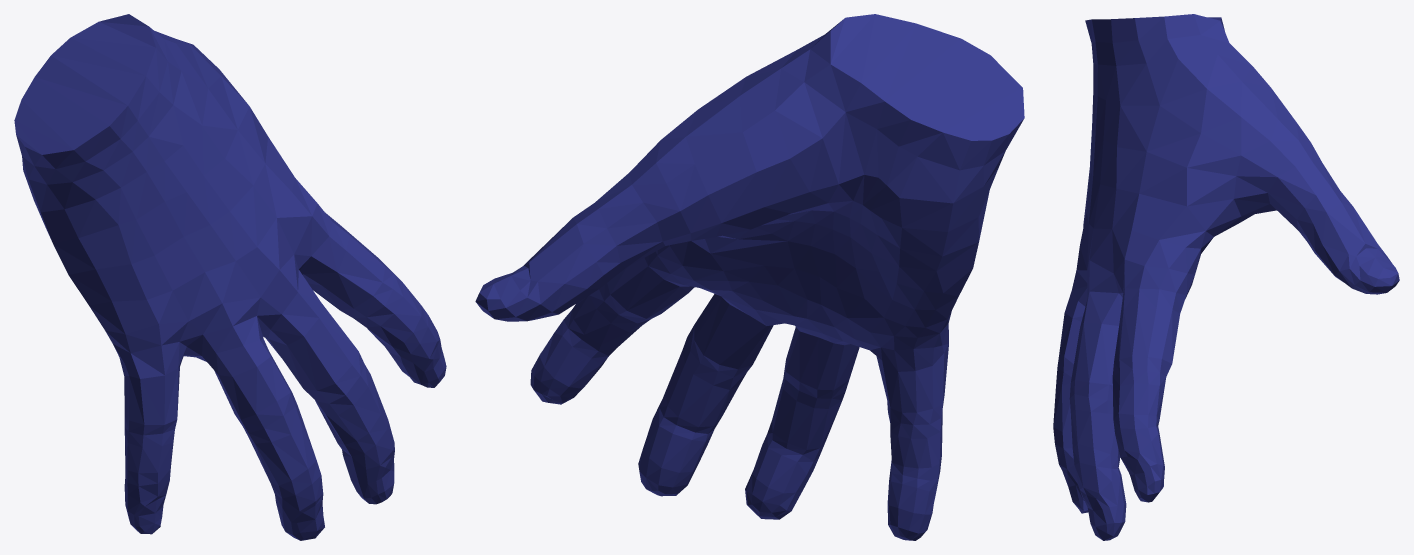
3 renders of one model, left to right at view 1: azimuth 30°, elevation 25°; view 2: azimuth 150°, elevation 25°; view 3: azimuth 270°, elevation 25°, orthographic. The views are drawn at different scales.
Bounding box in the file's own units: 0.1531 × 0.1755 × 0.1233.
